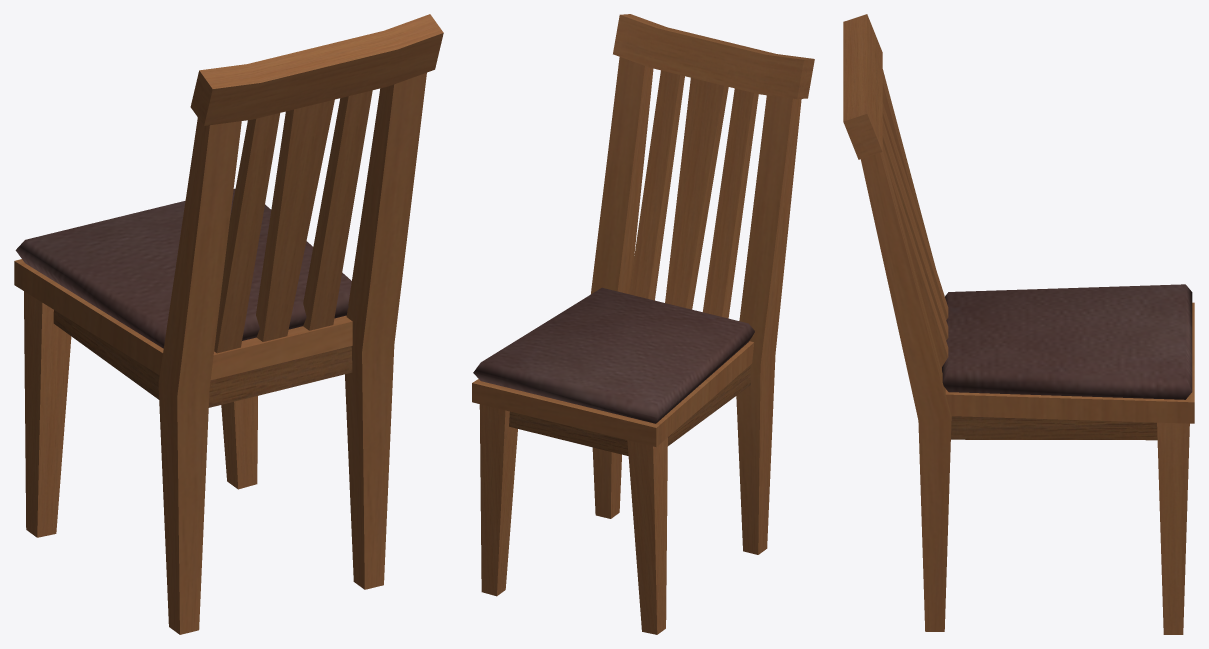
File: Chair_1A.fbx
3 renders of one model, left to right at view 1: azimuth 30°, elevation 25°; view 2: azimuth 150°, elevation 25°; view 3: azimuth 270°, elevation 25°, orthographic. The views are drawn at different scales.
Visible parts, largest first — view 1: polySurface1522; view 2: polySurface1522; view 3: polySurface1522.
Boxes of the visible parts, bbox=[...] form: polySurface1522: bbox=[14, 14, 443, 634]; polySurface1522: bbox=[472, 14, 814, 634]; polySurface1522: bbox=[843, 14, 1194, 634].
Size of the model in its own units: 0.5004 by 1.22 by 0.7442.
